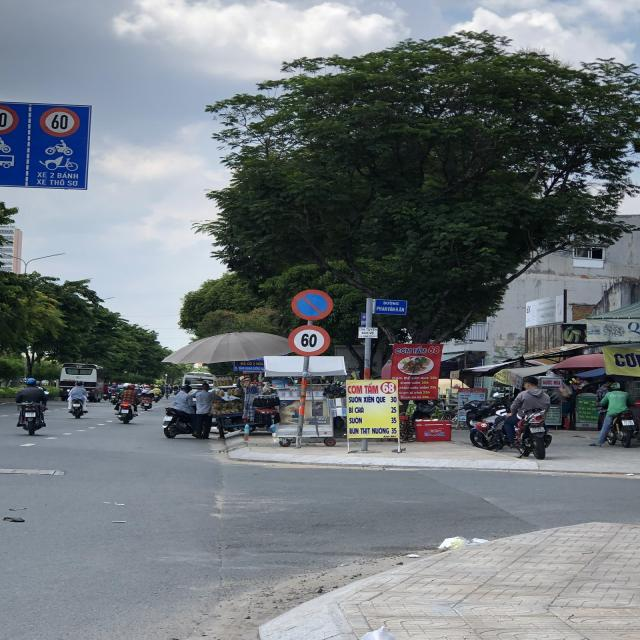Bien bao cam do xe: (285, 286, 339, 323)
Bien bao toc do toi da cho phep: (35, 104, 84, 141), (284, 323, 334, 358)
